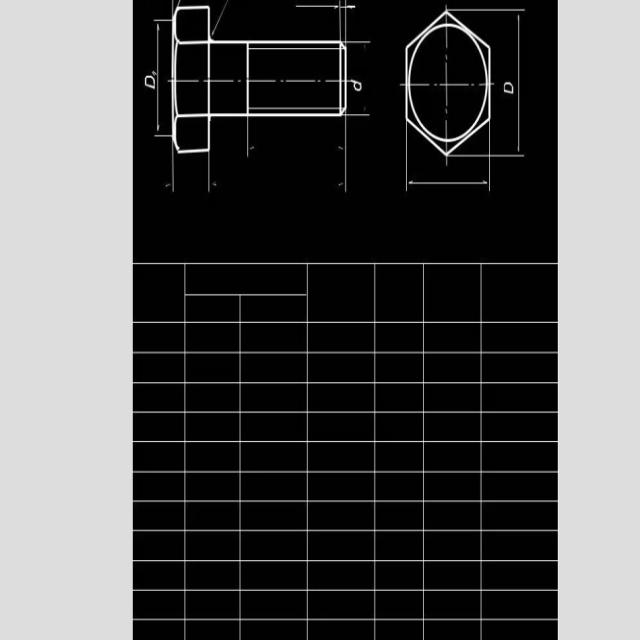marking_line: (489, 7, 527, 158), (406, 157, 492, 193), (296, 5, 356, 41), (155, 20, 172, 138), (170, 155, 213, 194)
numeric: (352, 78, 363, 92), (503, 81, 514, 95), (144, 76, 156, 88), (250, 144, 255, 151), (212, 180, 217, 187), (165, 183, 172, 187), (152, 71, 157, 75)
